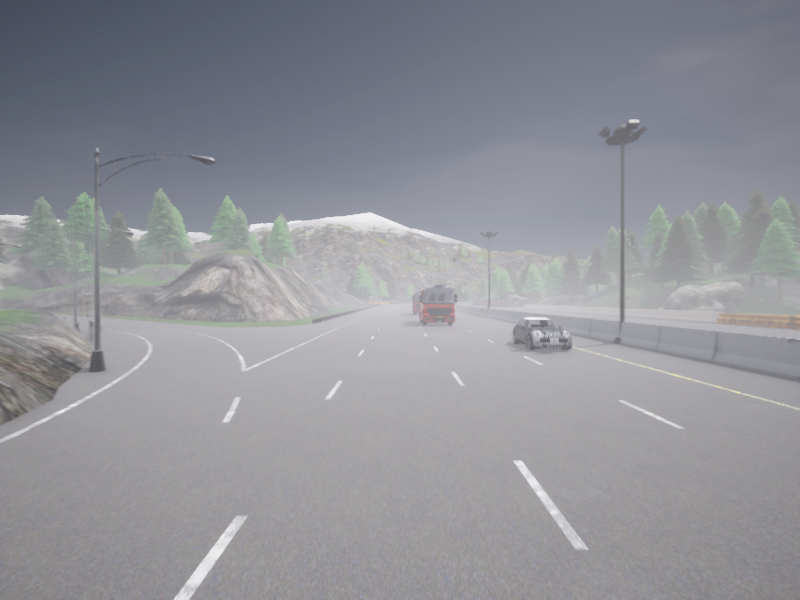vehicle: (512, 317, 571, 350), (419, 284, 456, 324), (412, 292, 419, 314), (455, 300, 458, 304)
